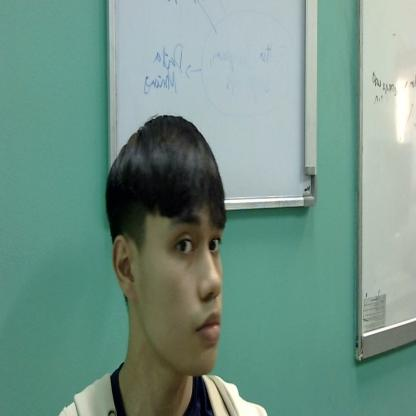Open-Eyes: (171, 206, 226, 264)
